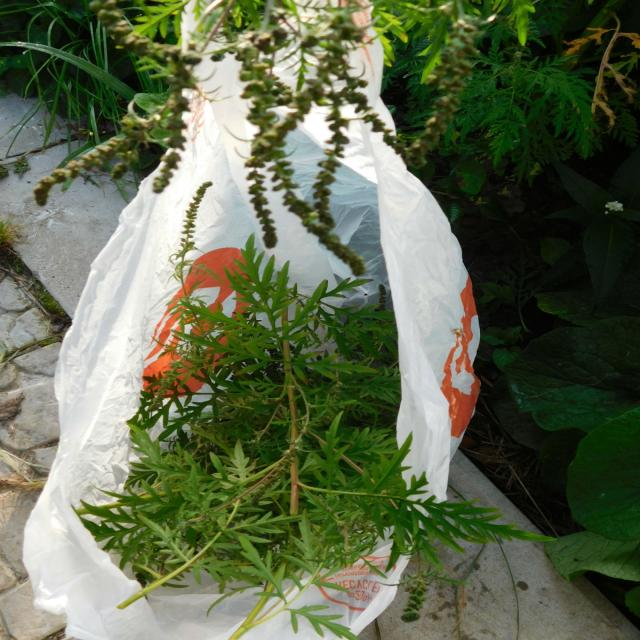ambrosia: (121, 267, 404, 567)
